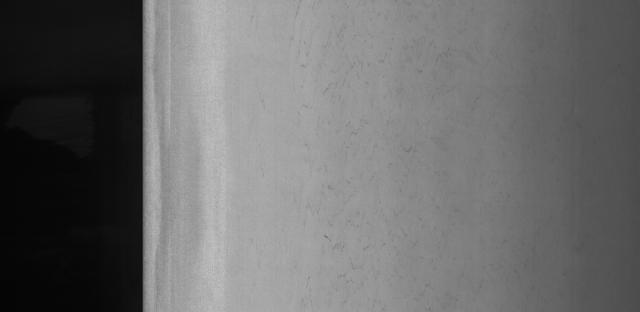silk_spot: (284, 24, 398, 296)
